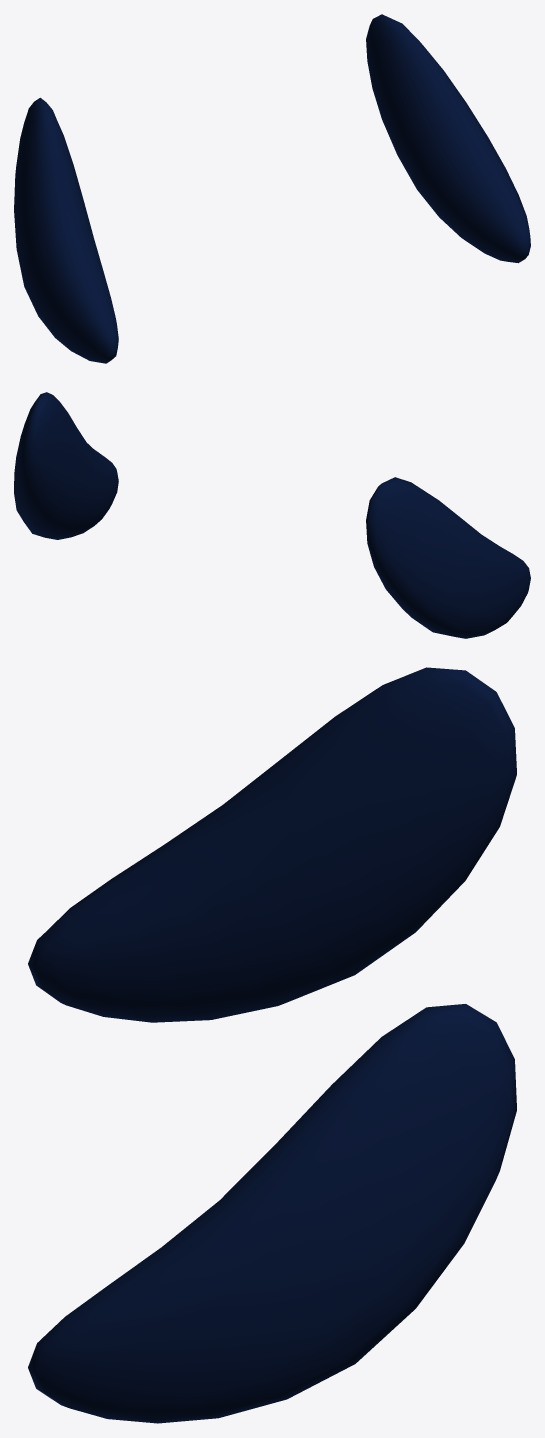
The model's file is AletasGunter_obj.obj.
The picture shows the model from 3 angles, top to bottom: view 1: azimuth 30°, elevation 25°; view 2: azimuth 150°, elevation 25°; view 3: azimuth 270°, elevation 25°; orthographic projection. The views are drawn at different scales.
Visible parts, largest first — view 1: Aletas; view 2: Aletas; view 3: Aletas.
Boxes of the visible parts, box(x1,y1,x2,y2) form: Aletas: box(14, 14, 530, 363); Aletas: box(14, 392, 530, 638); Aletas: box(28, 667, 516, 1423).
Size of the model in its own units: 1.06 by 0.4209 by 0.4883.
